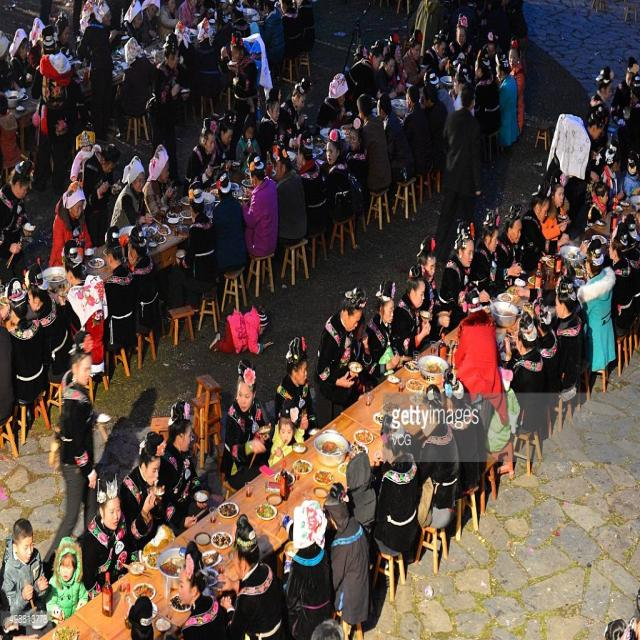body: (41, 329, 98, 578), (434, 81, 484, 268), (453, 288, 509, 453), (314, 284, 375, 428), (218, 511, 286, 639), (156, 399, 211, 539), (553, 105, 609, 242), (282, 497, 335, 639), (322, 480, 372, 630), (219, 356, 274, 492), (27, 24, 77, 172), (79, 466, 132, 604), (164, 185, 217, 321), (372, 412, 420, 558), (119, 430, 168, 564), (417, 382, 461, 530), (7, 275, 47, 435), (437, 221, 491, 336), (499, 310, 547, 436), (56, 238, 102, 366), (152, 31, 190, 182), (27, 261, 72, 385), (468, 208, 523, 308), (178, 539, 232, 640), (207, 168, 250, 294), (576, 238, 616, 373), (74, 0, 114, 133), (274, 333, 320, 445), (217, 30, 259, 152), (516, 185, 570, 278), (0, 517, 49, 618), (442, 367, 480, 494), (0, 158, 34, 291), (44, 534, 90, 630), (275, 147, 309, 275), (103, 225, 137, 352), (115, 34, 156, 139), (365, 278, 408, 378), (416, 235, 455, 344), (81, 142, 121, 248), (36, 48, 78, 148), (239, 154, 279, 258), (48, 180, 93, 269), (254, 92, 304, 172), (391, 264, 434, 357), (355, 91, 393, 196), (320, 128, 353, 244), (609, 56, 640, 175), (554, 274, 584, 394), (110, 154, 156, 232), (127, 221, 159, 330), (482, 366, 520, 455), (608, 232, 638, 340), (545, 109, 588, 182), (296, 134, 328, 232), (404, 84, 434, 188), (209, 304, 269, 356), (183, 116, 221, 197), (141, 143, 179, 222), (494, 203, 524, 300), (532, 296, 562, 392), (494, 50, 520, 160), (344, 45, 385, 113), (267, 397, 305, 470), (380, 91, 406, 196), (83, 273, 109, 378), (346, 452, 378, 537), (190, 14, 220, 104), (541, 169, 572, 255), (344, 114, 370, 216), (238, 22, 272, 95), (474, 48, 502, 135), (257, 0, 287, 79), (314, 72, 350, 137), (424, 83, 449, 172), (350, 312, 376, 396), (588, 64, 614, 148), (599, 586, 639, 640), (170, 16, 196, 98), (597, 138, 625, 214), (508, 34, 528, 138), (420, 27, 454, 84), (414, 1, 454, 49), (8, 27, 36, 95), (280, 75, 310, 138), (96, 1, 118, 82), (69, 128, 102, 182), (0, 88, 19, 180), (474, 0, 528, 32), (234, 118, 262, 175), (280, 0, 306, 61), (422, 71, 456, 117), (214, 108, 239, 168), (0, 322, 14, 428), (127, 594, 158, 640), (622, 75, 640, 154), (452, 61, 476, 119), (54, 11, 76, 74), (0, 28, 14, 122), (584, 180, 610, 230), (0, 586, 24, 640), (401, 38, 427, 87), (295, 0, 316, 58), (448, 11, 473, 58), (211, 23, 234, 73), (122, 0, 144, 51), (562, 270, 584, 321), (387, 40, 407, 95), (308, 615, 349, 640), (388, 42, 408, 92), (158, 0, 180, 42), (476, 30, 504, 63), (204, 0, 261, 15), (622, 153, 640, 198), (175, 0, 201, 30), (142, 0, 160, 42), (232, 6, 252, 39), (623, 212, 640, 250), (28, 16, 46, 49), (351, 43, 366, 63), (633, 205, 640, 230)
